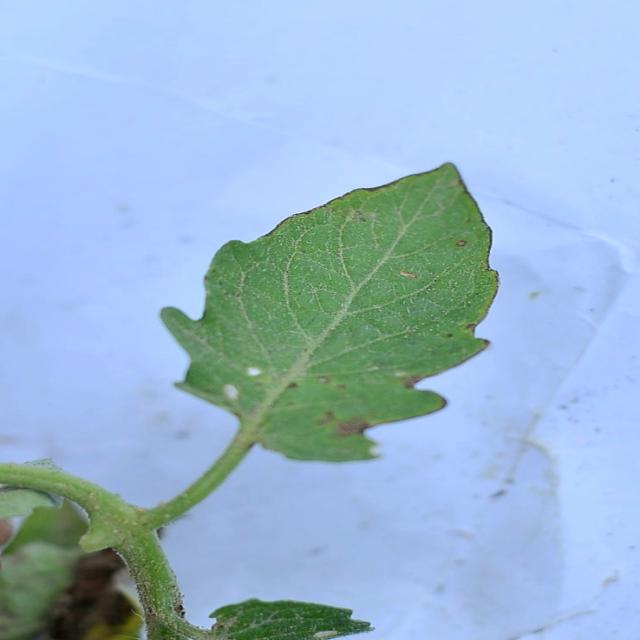infected: (211, 156, 503, 466)
